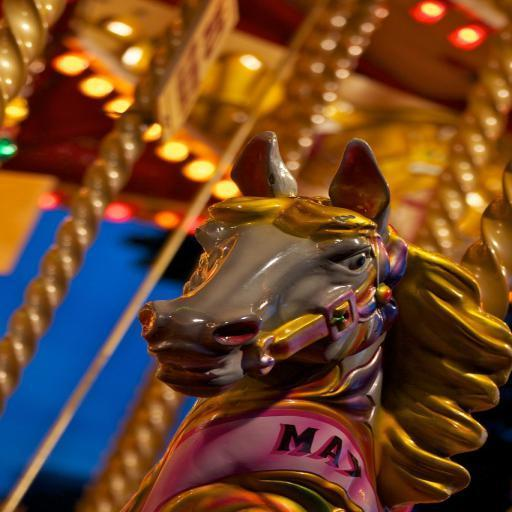horse: (113, 129, 512, 512)
